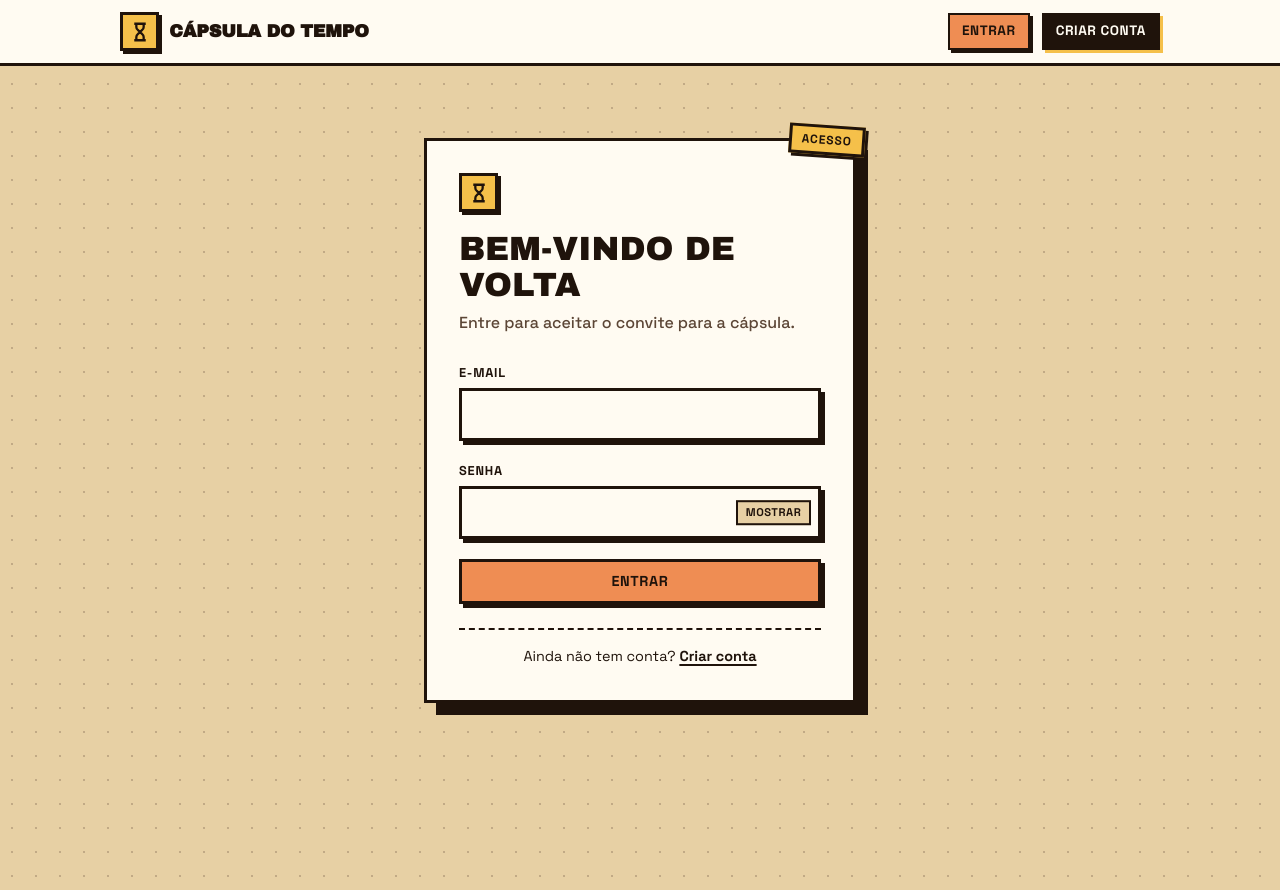
it: ConvitePage (/convite/:token) › without a session › keeps the invite when the user creates an account from the card footer
Expected: the heading "Bem-vindo de volta" is shown, top-left (459, 231), bottom-right (735, 303)
Click the link "Criar conta" next to "Ainda não tem conta?" at x=718, y=656, box top-left (679, 648), bottom-right (757, 666)
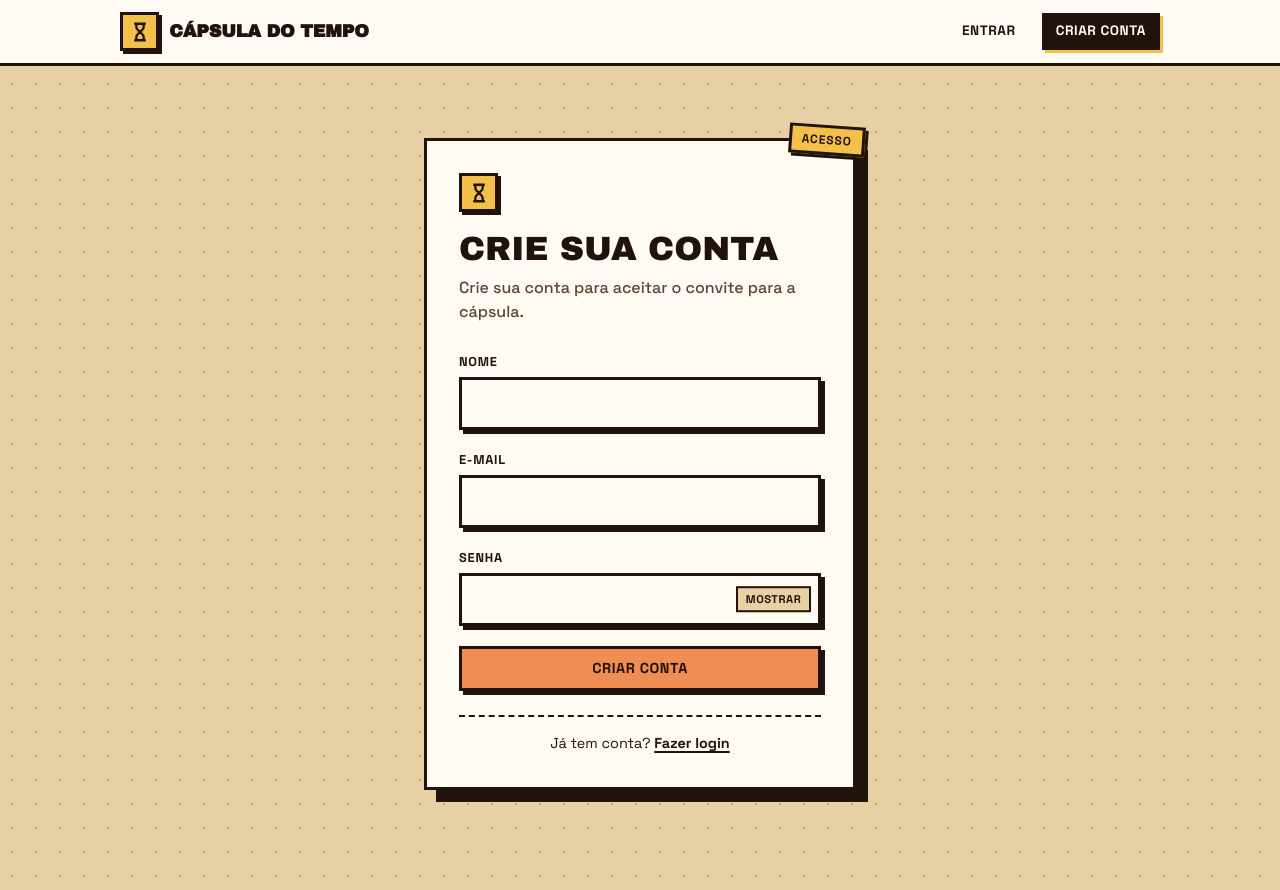
Expected: the text "Crie sua conta para aceitar o convite para a cápsula." is shown, top-left (459, 276), bottom-right (821, 324)
Type "Bruno Reis" into the field labelled "Nome" at x=640, y=403, box top-left (459, 377), bottom-right (821, 430)
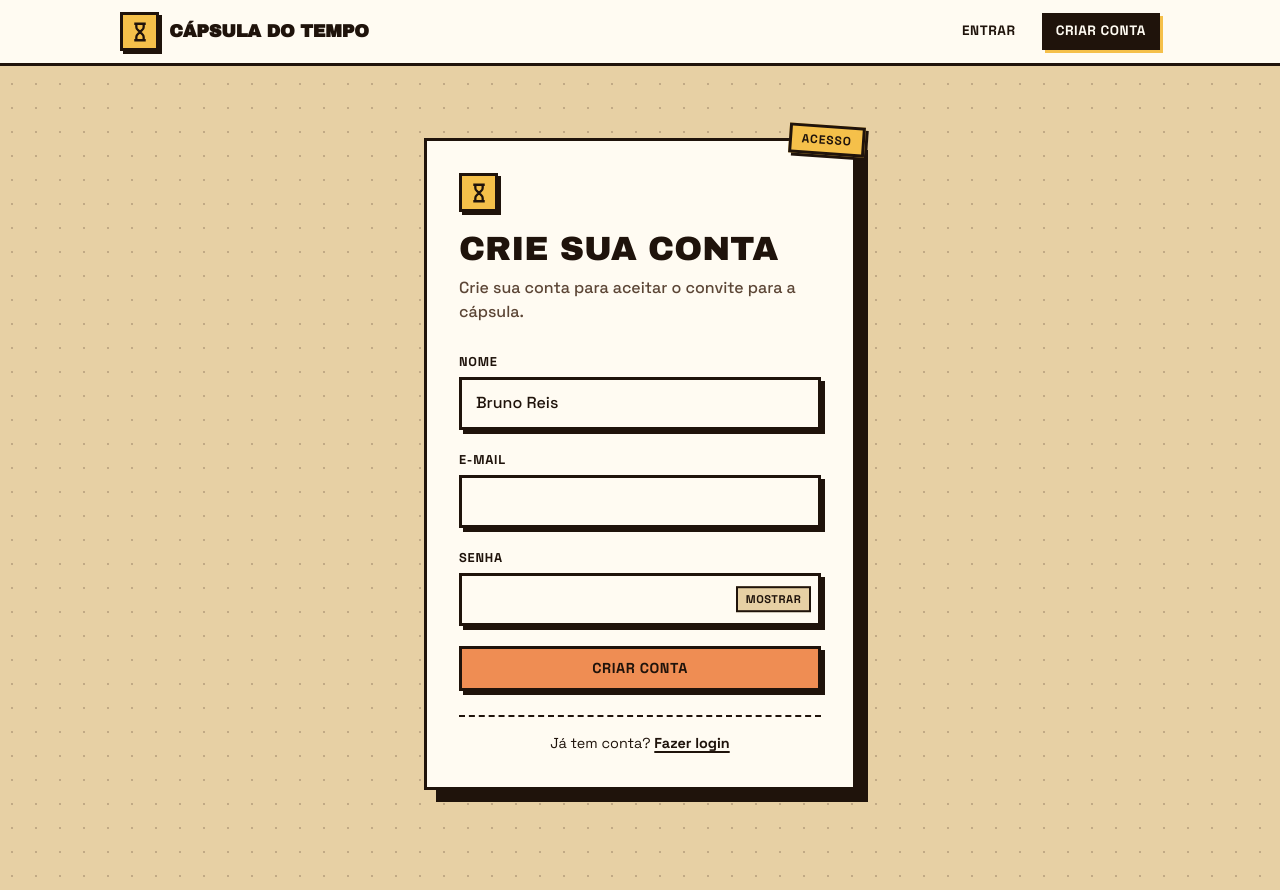
Type "bruno@example.com" into the field labelled "E-mail" at x=640, y=501, box top-left (459, 475), bottom-right (821, 528)
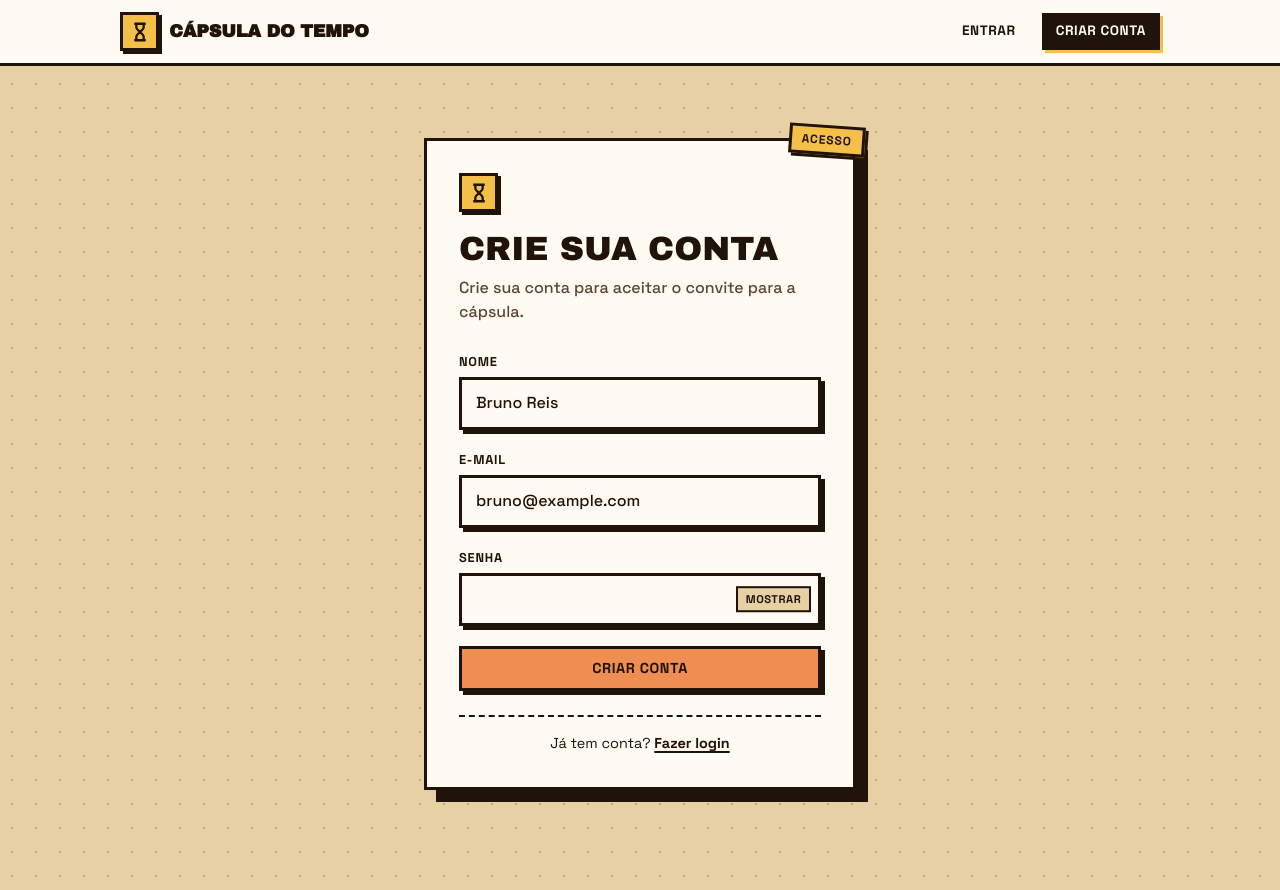
Type "segredo123" into the password field labelled "Senha" at x=640, y=599, box top-left (459, 573), bottom-right (821, 626)
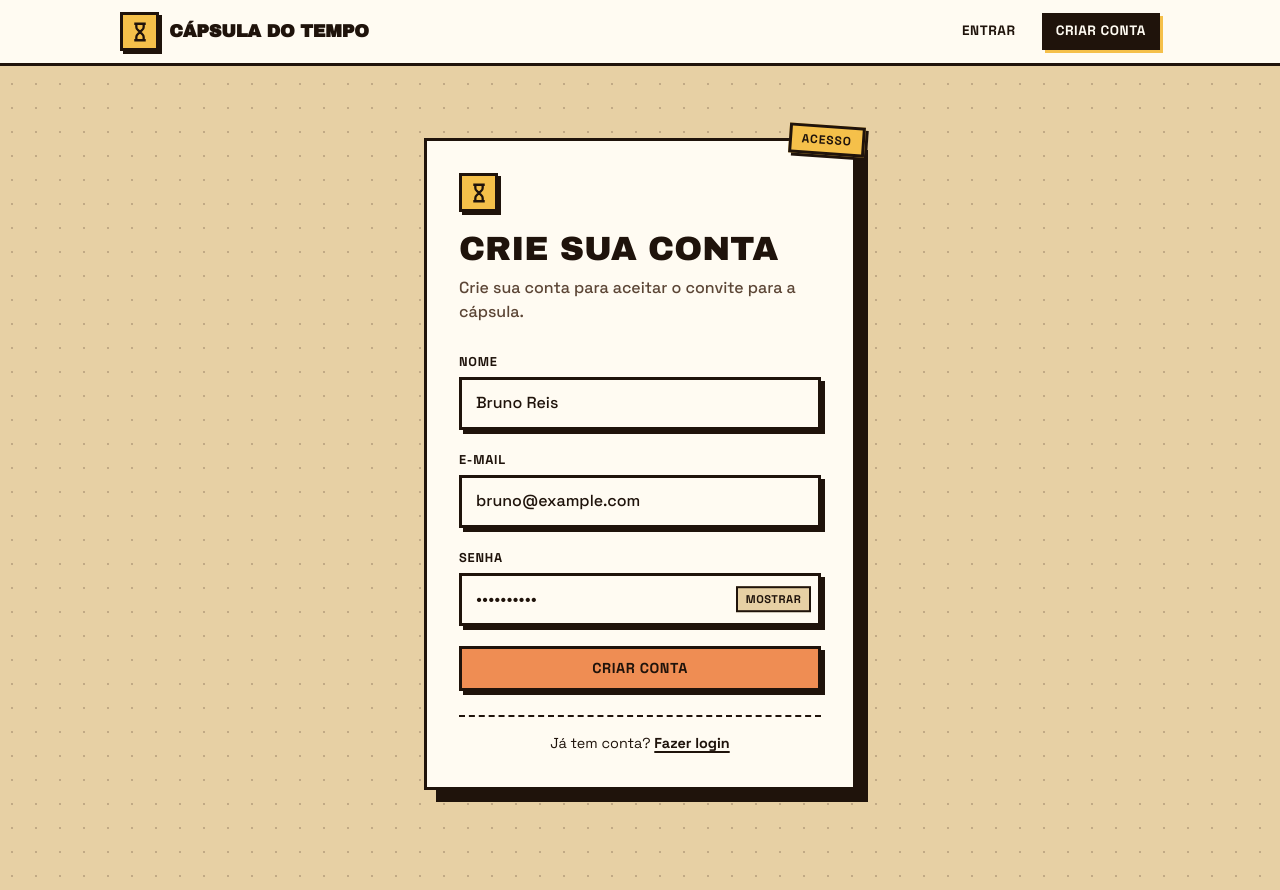
Click the button "Criar conta" at x=640, y=668, box top-left (459, 646), bottom-right (821, 691)
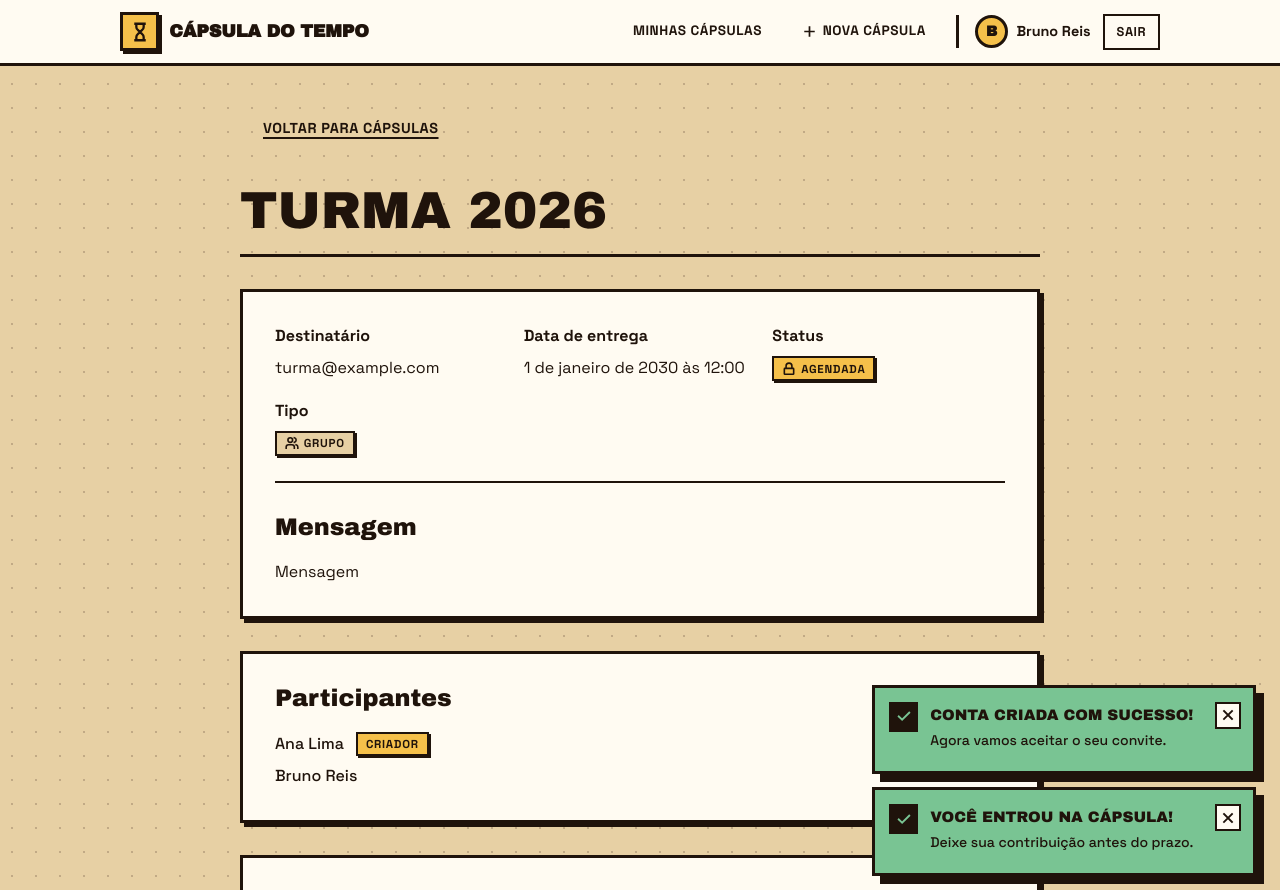
Expected: the heading "Turma 2026" is shown, top-left (240, 184), bottom-right (607, 238)
